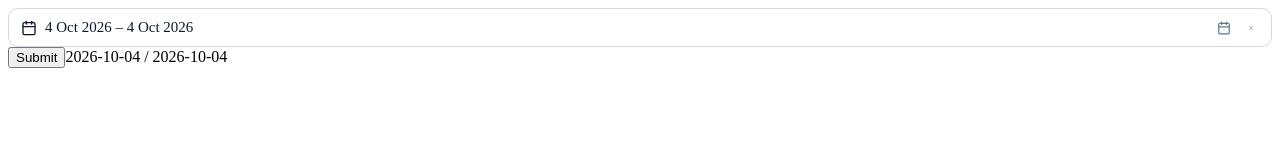
Test: clear removes both saved dates instead of retaining a previous value
The width and height of the screenshot is (1280, 160).
Click the button named "Clear date" at (1251,28), box [1242,18,1260,36]
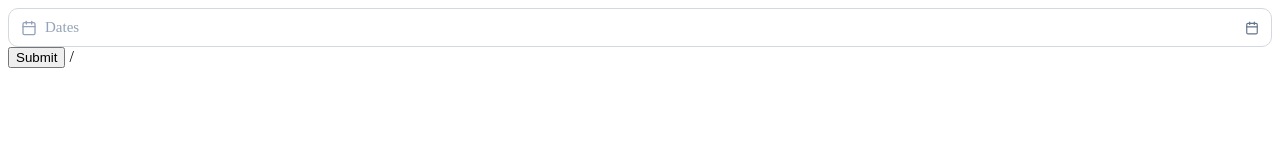
Check: the text named "Saved dates" reads "/", box [66,48,74,65]
Check: the text named "Saved dates" no longer shows "2026", box [66,48,74,65]
